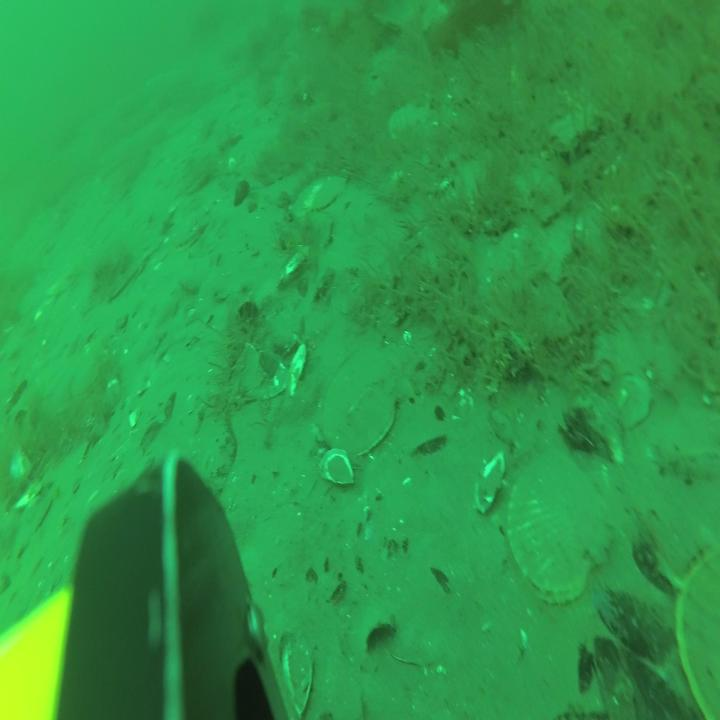scallop: (508, 448, 611, 602), (324, 346, 414, 460), (677, 538, 720, 720), (389, 104, 435, 148), (175, 208, 211, 252), (288, 176, 316, 219), (316, 171, 346, 211)
